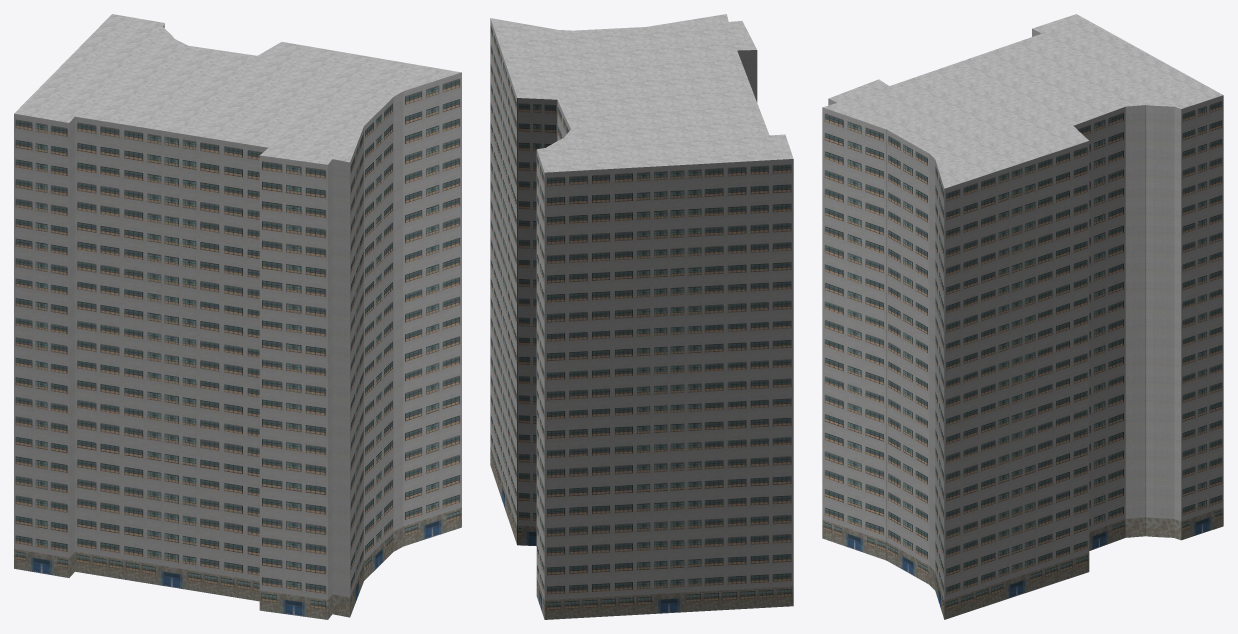
The picture shows the model from 3 angles, left to right: view 1: azimuth 30°, elevation 25°; view 2: azimuth 150°, elevation 25°; view 3: azimuth 270°, elevation 25°; orthographic projection. The views are drawn at different scales.
Parts seen in each view (by area): view 1: BuildingMaster_2018193856144462193500000000_0, BuildingMaster_2018193856144462193500000000_1; view 2: BuildingMaster_2018193856144462193500000000_0, BuildingMaster_2018193856144462193500000000_1; view 3: BuildingMaster_2018193856144462193500000000_0, BuildingMaster_2018193856144462193500000000_1.
Boxes of the visible parts, box(x1,y1,x2,y2) form: BuildingMaster_2018193856144462193500000000_0: box(14, 23, 461, 619); BuildingMaster_2018193856144462193500000000_1: box(14, 14, 461, 164); BuildingMaster_2018193856144462193500000000_0: box(490, 18, 793, 619); BuildingMaster_2018193856144462193500000000_1: box(490, 14, 793, 172); BuildingMaster_2018193856144462193500000000_0: box(822, 29, 1223, 619); BuildingMaster_2018193856144462193500000000_1: box(823, 14, 1222, 188).
Bounding box in the file's own units: 70 × 80.5 × 67.88.
2 materials, 2 textured.
